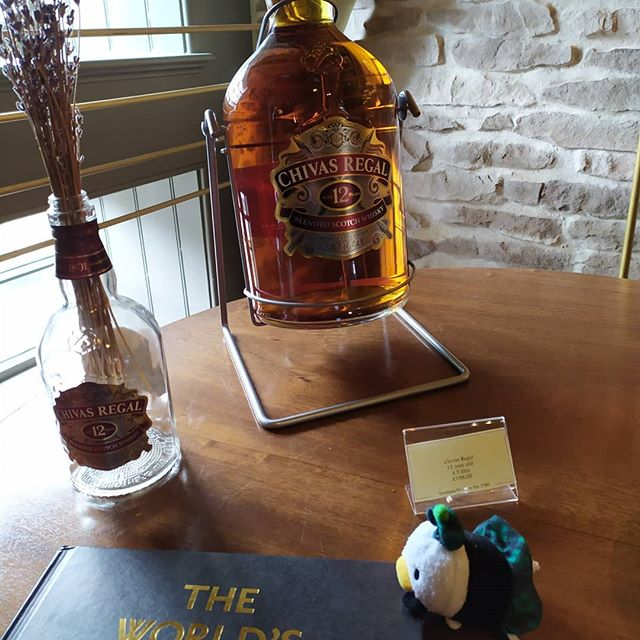Chivas Regal: (215, 1, 416, 333)
